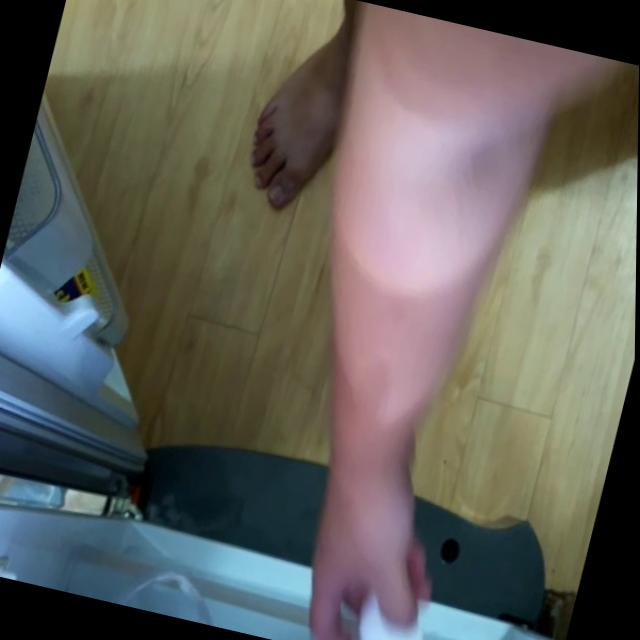egg: (351, 583, 433, 640)
